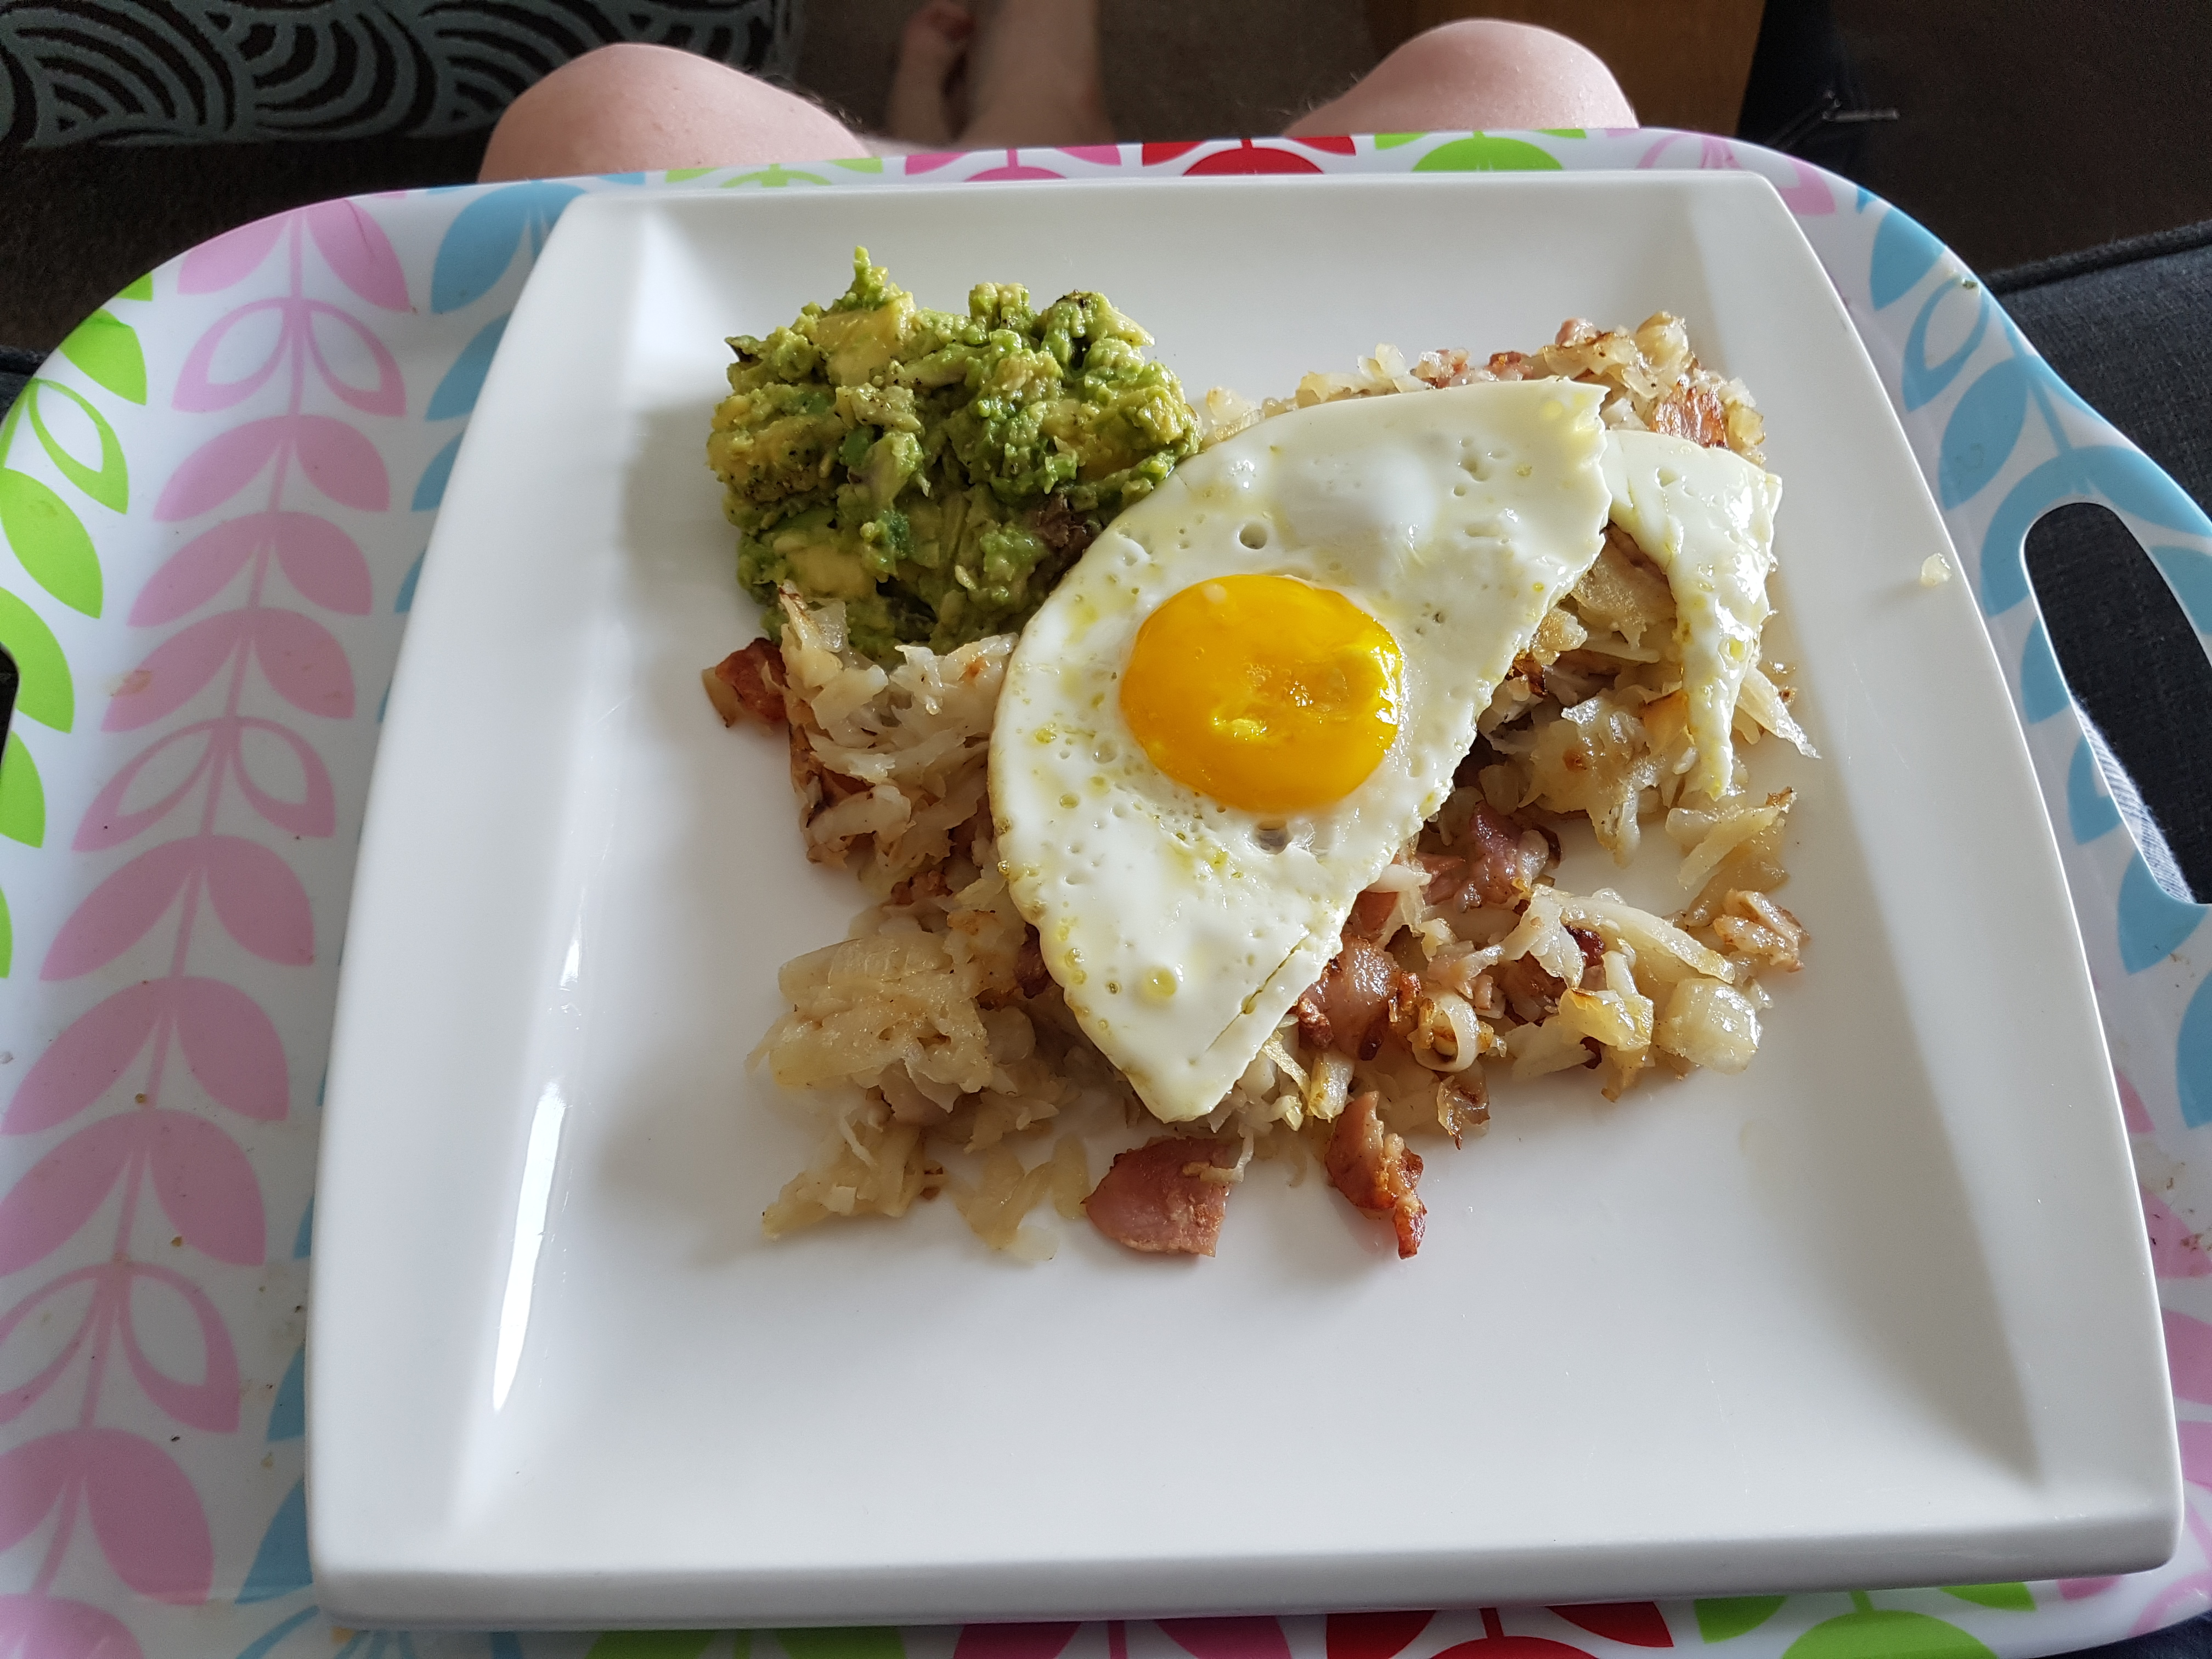fried egg: (991, 387, 1569, 1110)
